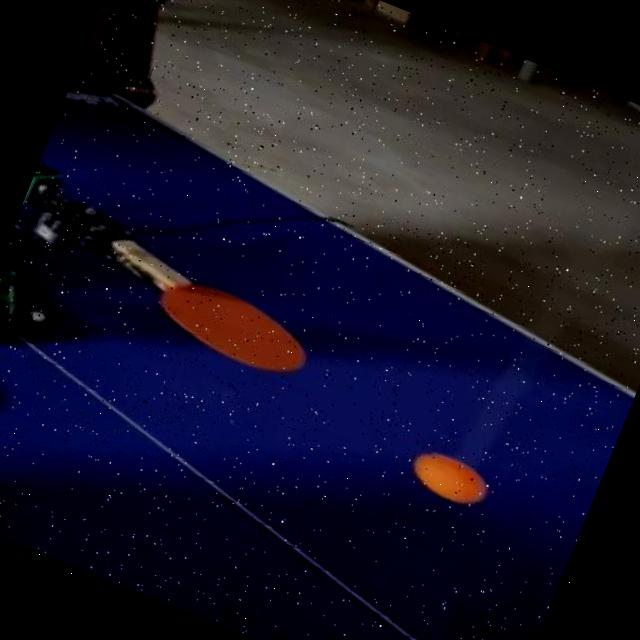ping-pong-ball: (404, 442, 490, 506)
